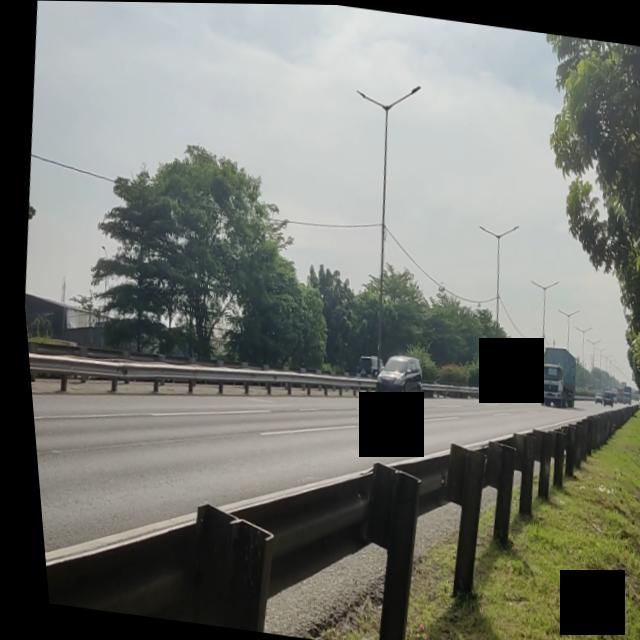Golongan I: (359, 344, 425, 413)
